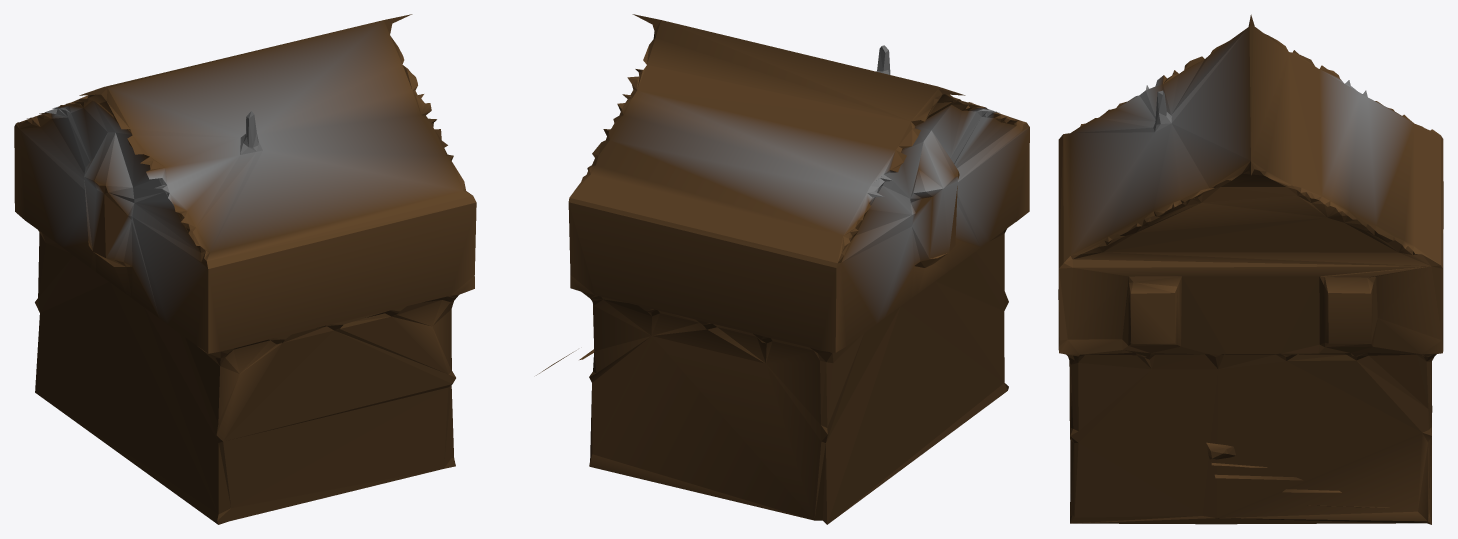
Rendered from Medieval Houses(2).glb.
The picture shows the model from 3 angles, left to right: view 1: azimuth 30°, elevation 25°; view 2: azimuth 150°, elevation 25°; view 3: azimuth 270°, elevation 25°; orthographic projection.
Parts seen in each view (by area): view 1: Root; view 2: Root; view 3: Root.
Part boxes in pixels (x1,y1,x2,y2): Root: (14,14,476,524); Root: (536,14,1029,524); Root: (1058,14,1443,524).
Size of the model in its own units: 12.61 by 12.16 by 11.34.
